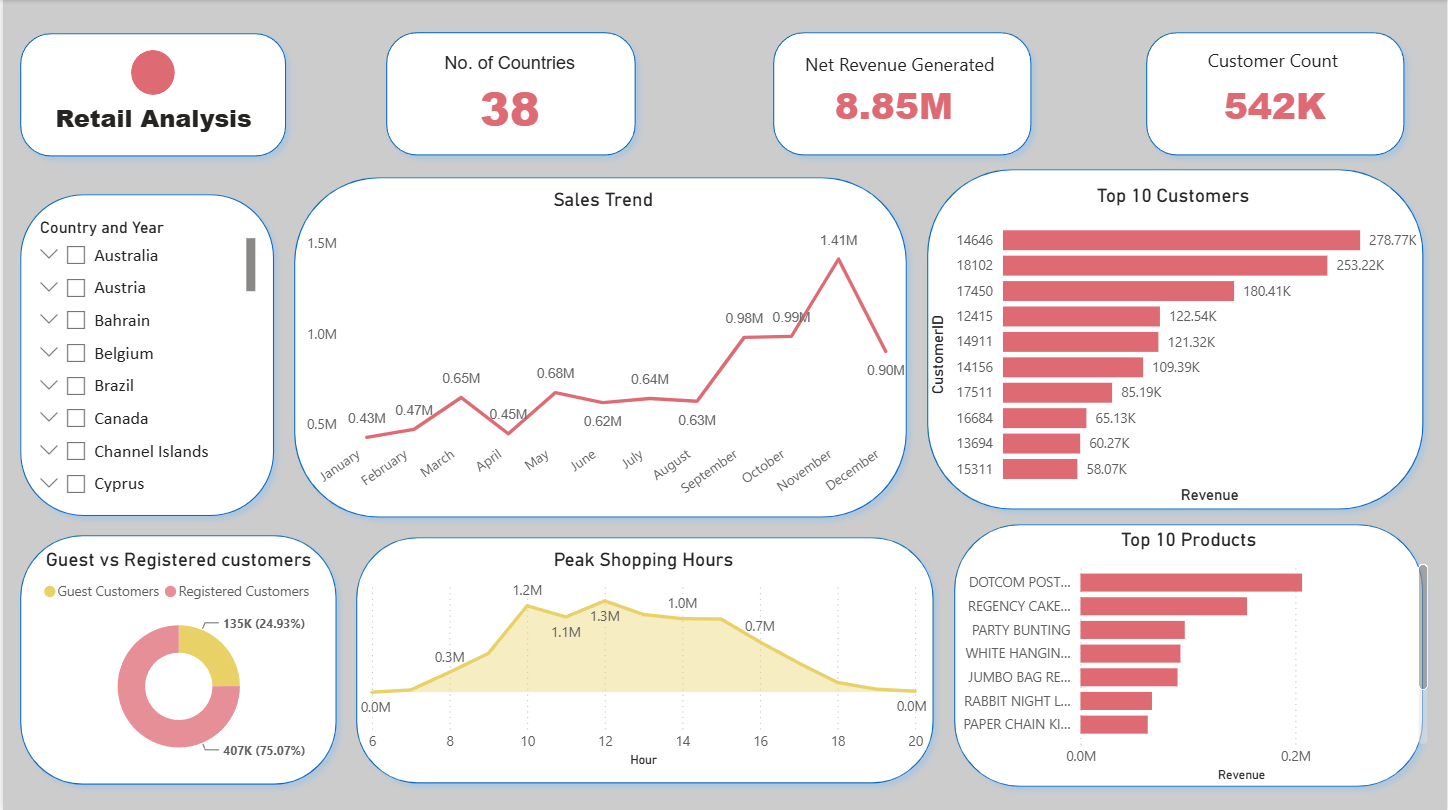

This screenshot's page, from the dashboard's own definition file:
{"tool":"powerbi","page":{"name":"Home","canvas":[1280,720],"ordinal":0},"visuals":[{"type":"shape","box":[5.8,20.4,253.9,127.4],"z":0},{"type":"textbox","box":[36,84.6,194.5,40.9],"z":1000},{"type":"shape","box":[330.7,19.5,239.3,127.4],"z":2000},{"type":"shape","box":[674,19.5,247.1,127.4],"z":3000},{"type":"shape","box":[113.8,44.7,38.9,39.9],"z":4000},{"type":"cardVisual","fields":{"Data":["Measures (2).Countries"]},"box":[393.9,46.7,113.8,94.3],"z":5000},{"type":"textbox","box":[343.3,42.8,216.9,32.1],"z":6000},{"type":"textbox","box":[688.6,40.9,216.9,32.1],"z":7000},{"type":"cardVisual","fields":{"Data":["Measures (2).Net Revenue"]},"box":[708.1,53.5,216.9,76.8],"z":8000},{"type":"shape","box":[1004.7,19.5,247.1,127.4],"z":9000},{"type":"textbox","box":[1019.3,37,216.9,32.1],"z":10000},{"type":"cardVisual","fields":{"Data":["Measures (2).Customer Count"]},"box":[1053.4,54.5,149.8,75.9],"z":11000},{"type":"shape","box":[5.8,163.4,243.2,303.5],"z":12000},{"type":"slicer","fields":{"Values":["Online Retail.Country","Online Retail.Year"]},"box":[17.5,185.8,213,260.7],"z":13000},{"type":"shape","box":[249,147.8,561.2,320],"z":14000},{"type":"lineChart","title":"Sales Trend","fields":{"Category":["Online Retail.Month Name"],"Y":["Measures (2).Net Revenue"]},"box":[259.7,166.3,544.7,293.7],"z":15000},{"type":"shape","box":[304.4,466.9,530.1,236.4],"z":16000},{"type":"areaChart","title":"Peak Shopping Hours","fields":{"Category":["Online Retail.Hour"],"Y":["Measures (2).Net Revenue"]},"box":[312.2,486.3,511.6,198.4],"z":17000},{"type":"shape","box":[834.5,456.2,433.8,250.9],"z":18000},{"type":"clusteredBarChart","title":"Top 10 Products","fields":{"Category":["Online Retail.Description"],"Y":["Measures (2).Net Revenue"]},"box":[834.5,467.8,433.8,229.5],"z":19000},{"type":"shape","box":[5.8,465.9,298.6,239.3],"z":20000},{"type":"donutChart","title":"Guest vs Registered customers ","fields":{"Y":["Measures (2).Guest Customers","Measures (2).Registered Customers"]},"box":[17.5,486.3,276.2,198.4],"z":21000},{"type":"shape","box":[810.2,141,458.1,320],"z":22000},{"type":"barChart","title":"Top 10 Customers","fields":{"Category":["Online Retail.CustomerID"],"Y":["Measures (2).Net Revenue"]},"box":[817,163.4,441.6,287.9],"z":23000}]}

Visuals, with their boxes in screenshot pixels (x1, y1, x2, y2), scaled from the page's 1280x720 canvas onto the 1448x810 screenshot:
shape: [7,23,294,166]
textbox: [41,95,261,141]
shape: [374,22,645,165]
shape: [762,22,1042,165]
shape: [129,50,173,95]
cardVisual - Measures (2).Countries: [446,53,574,159]
textbox: [388,48,634,84]
textbox: [779,46,1024,82]
cardVisual - Measures (2).Net Revenue: [801,60,1046,147]
shape: [1137,22,1416,165]
textbox: [1153,42,1398,78]
cardVisual - Measures (2).Customer Count: [1192,61,1361,147]
shape: [7,184,282,525]
slicer - Online Retail.Country x Online Retail.Year: [20,209,261,502]
shape: [282,166,917,526]
"Sales Trend" lineChart: [294,187,910,518]
shape: [344,525,944,791]
"Peak Shopping Hours" areaChart: [353,547,932,770]
shape: [944,513,1435,795]
"Top 10 Products" clusteredBarChart: [944,526,1435,784]
shape: [7,524,344,793]
"Guest vs Registered customers " donutChart: [20,547,332,770]
shape: [917,159,1435,519]
"Top 10 Customers" barChart: [924,184,1424,508]
